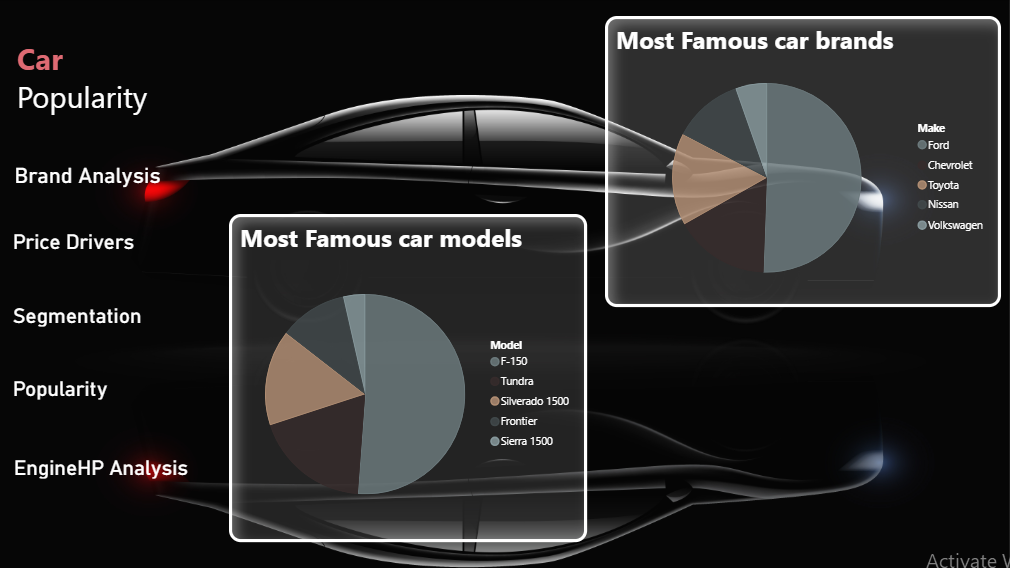

The page's visual inventory and layout, read from the dashboard file:
{"tool":"powerbi","page":{"name":"Popularity Overview","canvas":[1280,720],"ordinal":3},"visuals":[{"type":"textbox","box":[0,0,233.3,720.4],"z":0},{"type":"actionButton","title":"Brand Analysis","box":[16.5,205.8,216.8,65.9],"z":1000},{"type":"actionButton","title":"Price Drivers","box":[16.5,290.9,164.7,70],"z":2000},{"type":"actionButton","title":"Segmentation","box":[16.5,384.2,196.2,70],"z":3000},{"type":"pieChart","title":"Most Famous car brands","fields":{"Category":["Sheet1 (2).Make"],"Y":["Sum(Sheet1 (2).Popularity)"]},"box":[767.1,20.6,502.2,369.1],"z":4000},{"type":"textbox","box":[16.9,43.4,216,118.2],"z":5000},{"type":"pieChart","title":"Most Famous car models","fields":{"Category":["Sheet1 (2).Model"],"Y":["Sum(Sheet1 (2).Popularity)"]},"box":[290.9,271.7,454.2,415.8],"z":6000},{"type":"actionButton","title":"Popularity","box":[16.5,476.2,178.4,65.9],"z":7000},{"type":"actionButton","title":"EngineHP Analysis ","box":[17.8,576.3,242.9,71.4],"z":8000}]}

Visuals, with their boxes in screenshot pixels (x1, y1, x2, y2), scaled from the page's 1280x720 canvas onto the 1010x568 screenshot:
textbox: [left=0, top=0, right=184, bottom=567]
"Brand Analysis" actionButton: [left=13, top=162, right=184, bottom=214]
"Price Drivers" actionButton: [left=13, top=229, right=143, bottom=285]
"Segmentation" actionButton: [left=13, top=303, right=168, bottom=358]
"Most Famous car brands" pieChart: [left=605, top=16, right=1002, bottom=307]
textbox: [left=13, top=34, right=184, bottom=127]
"Most Famous car models" pieChart: [left=230, top=214, right=588, bottom=542]
"Popularity" actionButton: [left=13, top=376, right=154, bottom=428]
"EngineHP Analysis " actionButton: [left=14, top=455, right=206, bottom=511]
